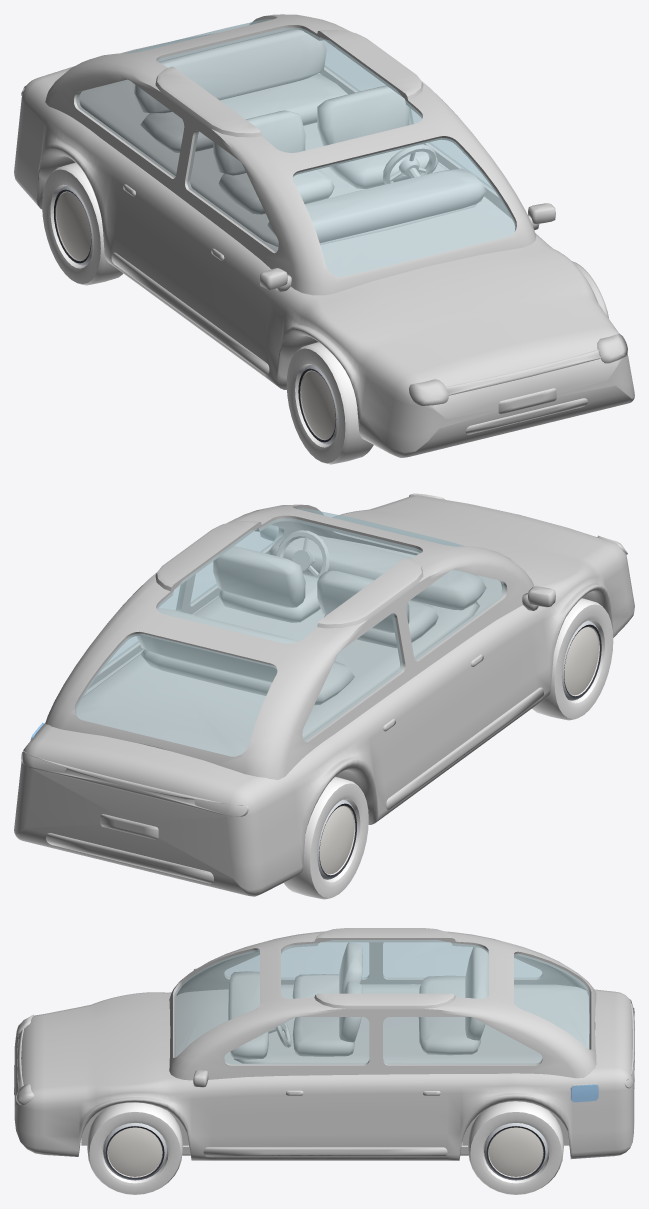
Rendered from car.glb.
3 renders of one model, top to bottom at view 1: azimuth 30°, elevation 25°; view 2: azimuth 150°, elevation 25°; view 3: azimuth 270°, elevation 25°, orthographic. The views are drawn at different scales.
Parts seen in each view (by area): view 1: electric-car_body, electric-car_windows, electric-car_wheel_fr, electric-car_wheel_rr; view 2: electric-car_body, electric-car_windows, electric-car_wheel_rr, electric-car_wheel_fr; view 3: electric-car_body, electric-car_windows, electric-car_wheel_rl, electric-car_wheel_fl, electric-car_charge_flap.
Part boxes in pixels (x1,y1,x2,y2): electric-car_body: (14,14,634,457); electric-car_windows: (76,19,515,276); electric-car_wheel_fr: (286,342,373,464); electric-car_wheel_rr: (42,163,123,285); electric-car_body: (14,493,634,896); electric-car_windows: (75,508,504,756); electric-car_wheel_rr: (284,776,368,899); electric-car_wheel_fr: (532,598,613,720); electric-car_body: (14,928,634,1160); electric-car_windows: (174,940,589,1064); electric-car_wheel_rl: (468,1101,563,1194); electric-car_wheel_fl: (87,1102,182,1194); electric-car_charge_flap: (571,1084,598,1102).
Size of the model in its own units: 1.92 by 1.45 by 4.53.
